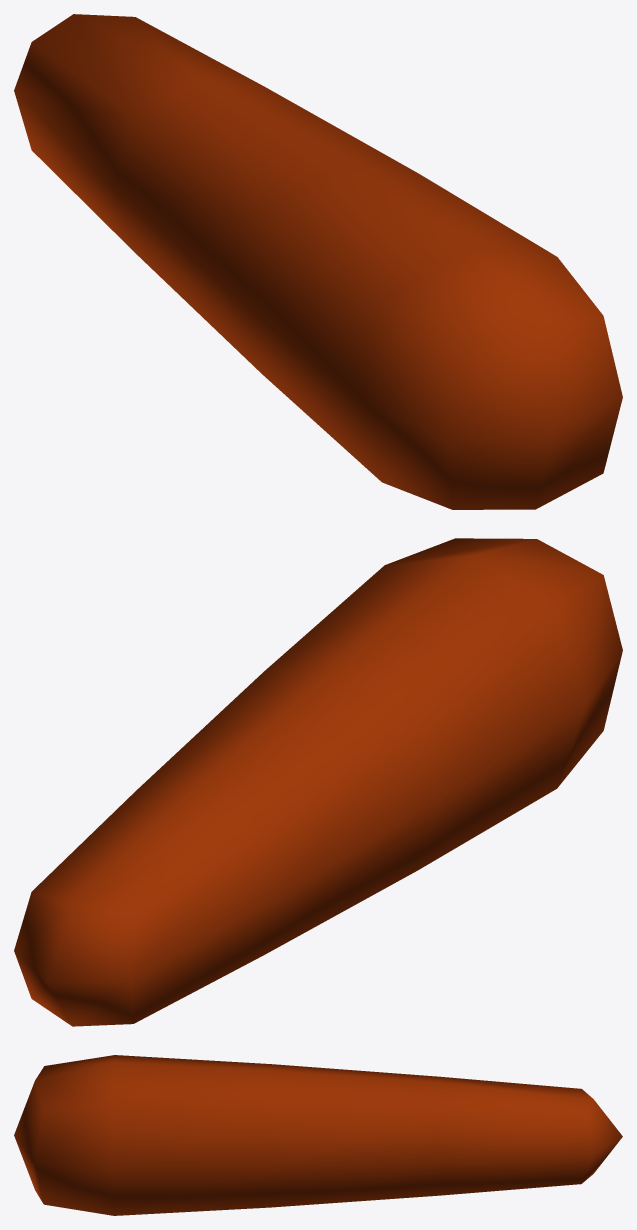
The model's file is UpperArmLeft.dae.
The picture shows the model from 3 angles, top to bottom: view 1: azimuth 30°, elevation 25°; view 2: azimuth 150°, elevation 25°; view 3: azimuth 270°, elevation 25°; orthographic projection. The views are drawn at different scales.
Parts seen in each view (by area): view 1: UpperArm_L; view 2: UpperArm_L; view 3: UpperArm_L.
Part boxes in pixels (box(x1,y1,x2,y2)): UpperArm_L: box(14, 14, 622, 509); UpperArm_L: box(14, 538, 622, 1026); UpperArm_L: box(14, 1055, 622, 1215).
Bounding box in the file's own units: 0.1006 × 0.3818 × 0.1006.
